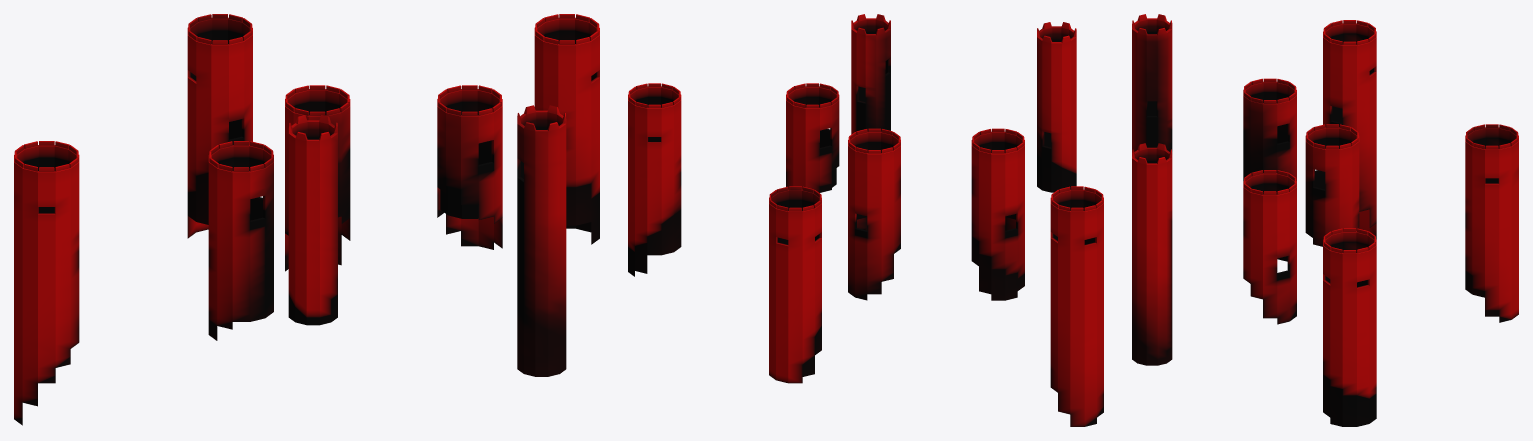
File: TowersOuter_export.obj
The picture shows the model from 3 angles, left to right: view 1: azimuth 30°, elevation 25°; view 2: azimuth 150°, elevation 25°; view 3: azimuth 270°, elevation 25°; orthographic projection. The views are drawn at different scales.
Visible parts, largest first — view 1: TowersOuter; view 2: TowersOuter; view 3: TowersOuter.
Part boxes in pixels (left/top/right/bottom): TowersOuter: left=14, top=14, right=599, bottom=425; TowersOuter: left=628, top=14, right=1103, bottom=426; TowersOuter: left=1132, top=14, right=1518, bottom=426.
Bounding box in the file's own units: 78.74 × 45.85 × 55.76.
